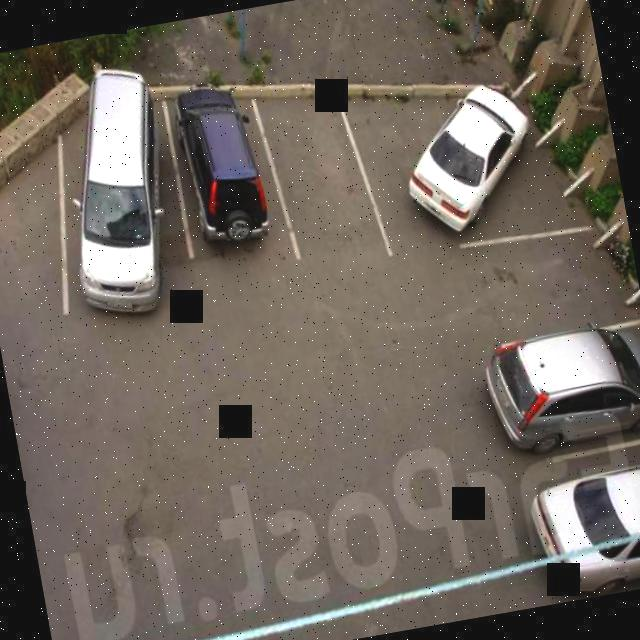car: (372, 63, 572, 258), (45, 80, 196, 330), (154, 77, 308, 297), (491, 318, 640, 461), (526, 450, 640, 595)
free: (256, 86, 384, 272), (448, 223, 622, 350)
